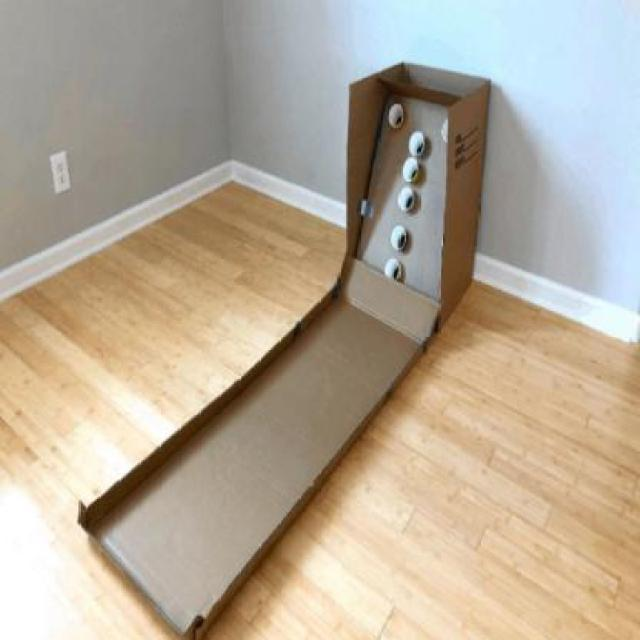box: (67, 43, 500, 640)
